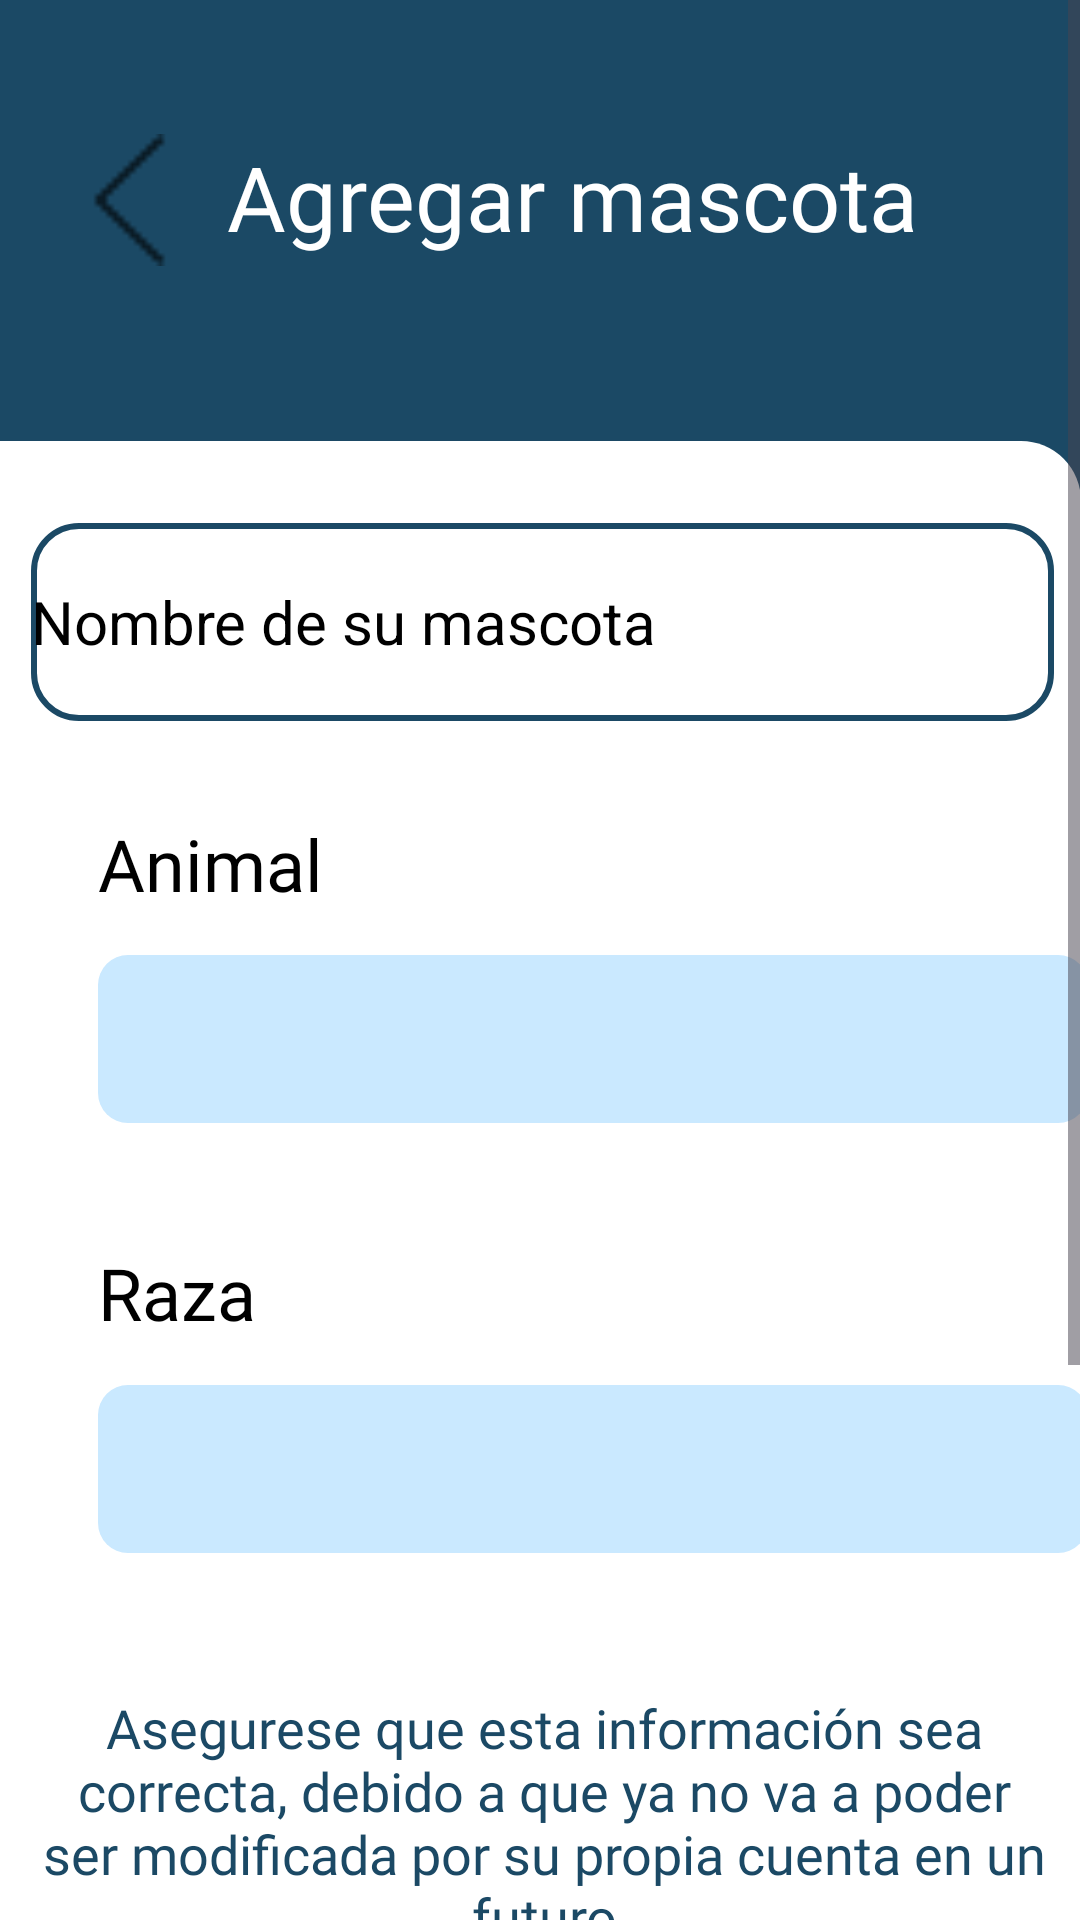

Locate icon controls on the screen. Image size 1080px x 1920px, boxes as (x1, y1, x2, y2).
flecha: (95, 134, 164, 266)
